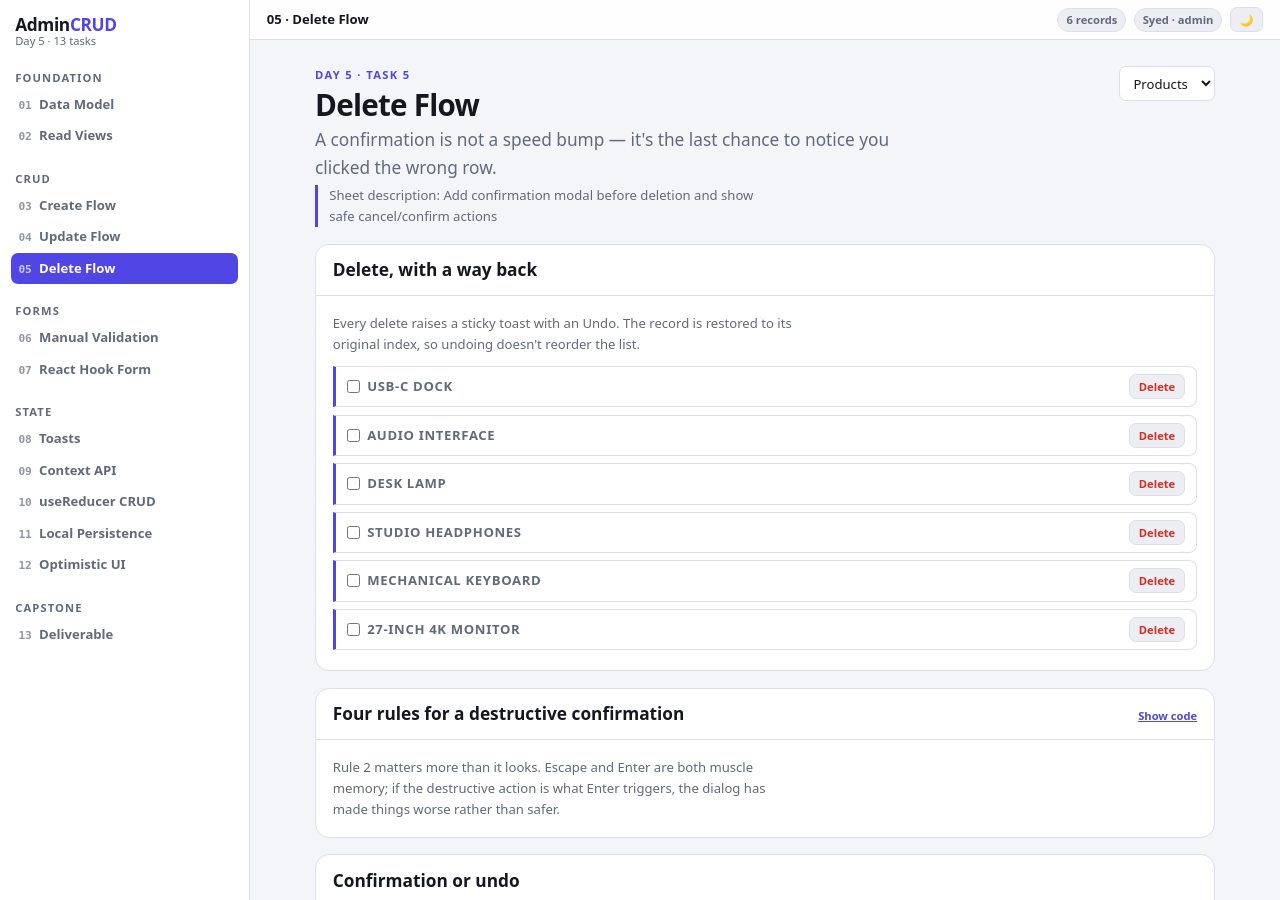
Test: task 5 — delete flow › cancelling leaves the record alone
This screenshot has width=1280, height=900.
Check: the text "Day 5 · Task 5" is shown, box [315,67,410,82]
What coordinates should you click on to do the following:
click the button "Delete" in the row of "USB-C dock"
I would click on:
 (1157, 387)
Its box is [1129,374,1185,399].
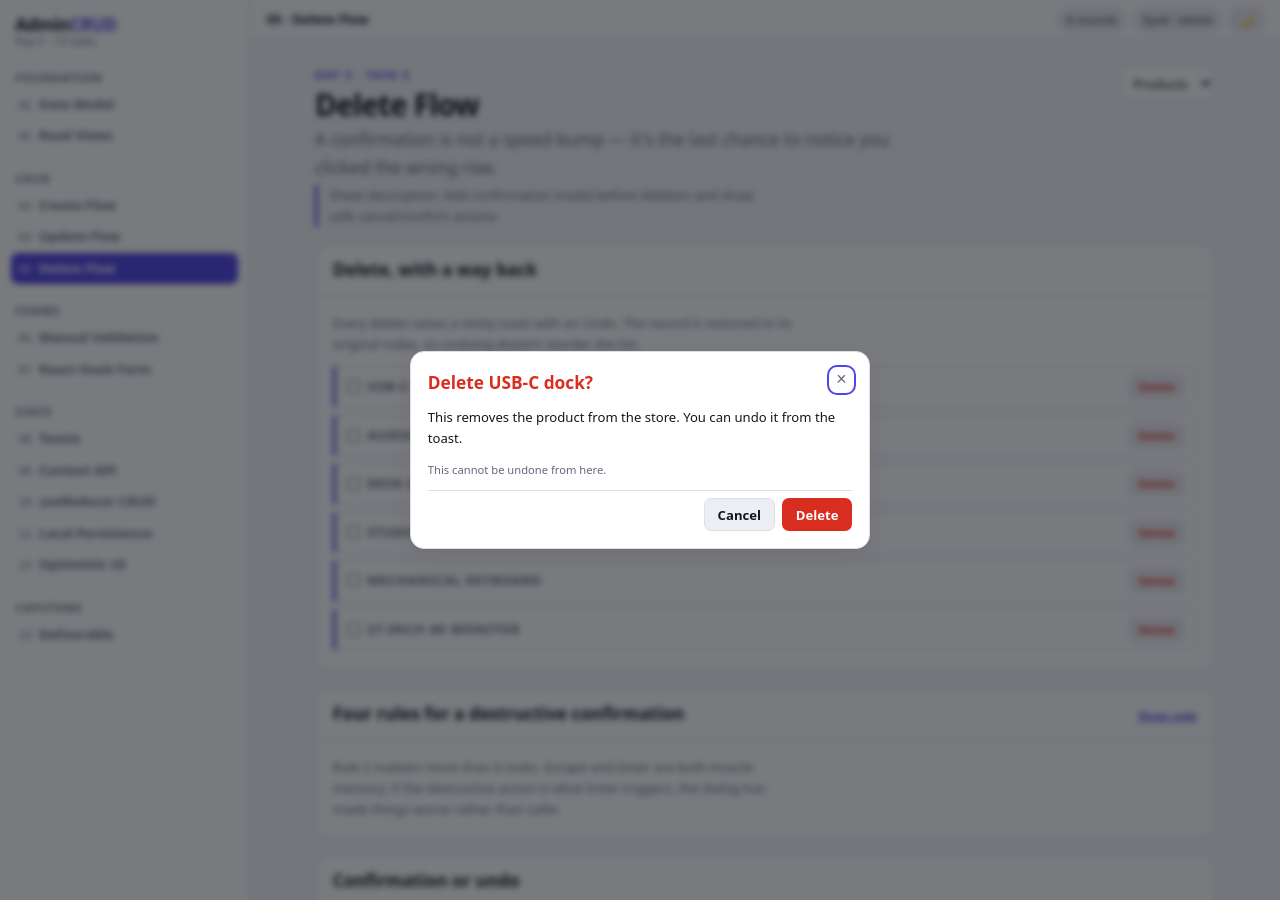
What coordinates should you click on to do the following:
click the button "Cancel"
I would click on:
 (739, 515)
Its box is [704,498,775,531].
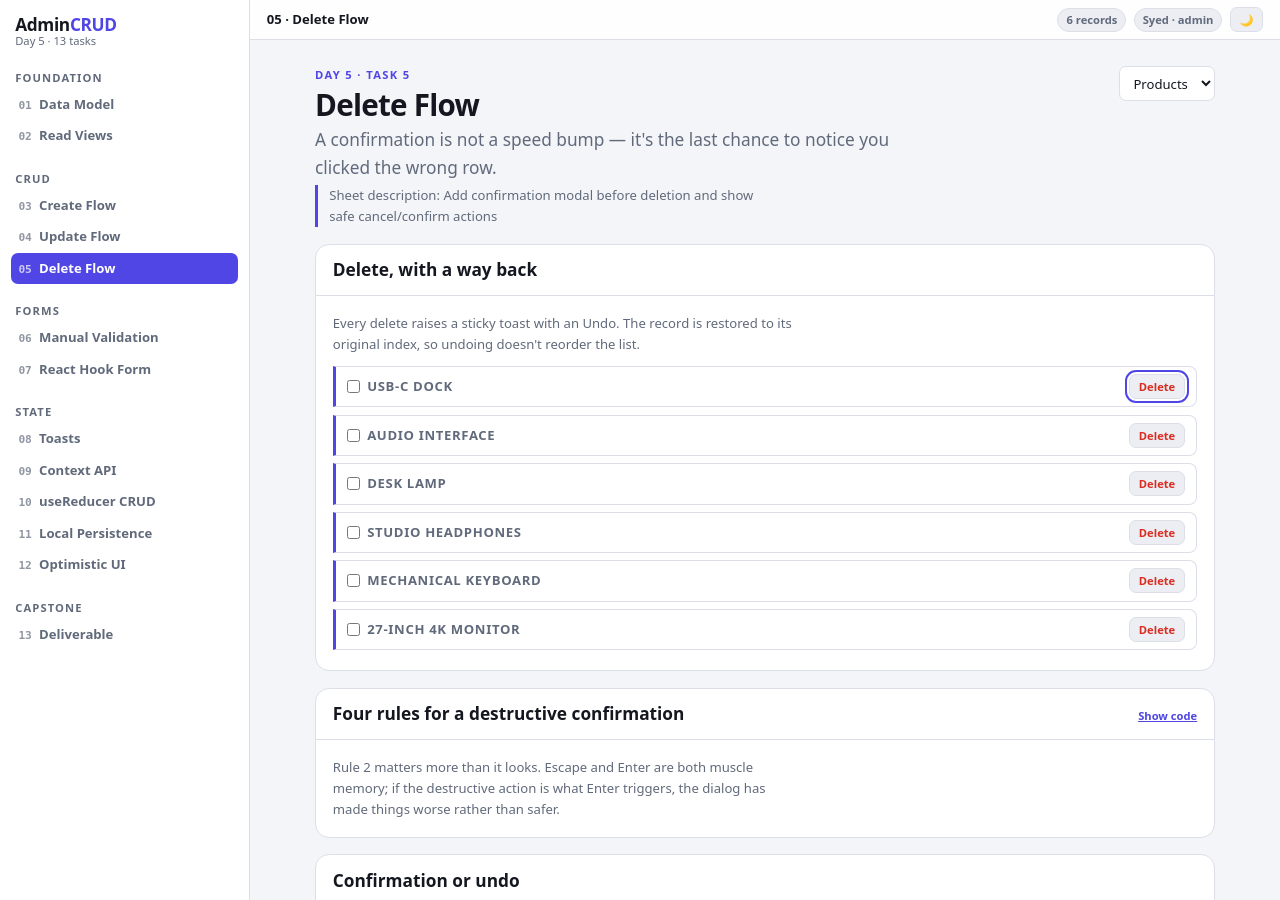
Check: the dialog is gone
Check: the number of buttons "Delete" is 6, box [1129,374,1185,399]; [1129,423,1185,448]; [1129,471,1185,496]; [1129,520,1185,545]; [1129,568,1185,593]; [1129,617,1185,642]
